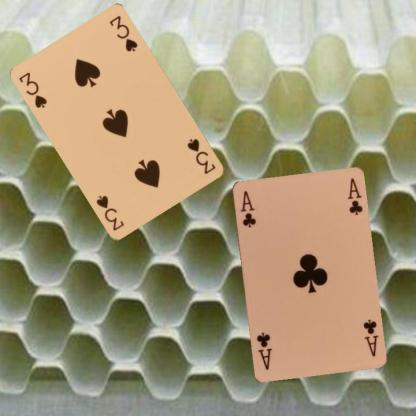3s: (184, 136, 218, 176), (16, 69, 49, 110)
Ac: (360, 316, 380, 358), (238, 188, 257, 229)
